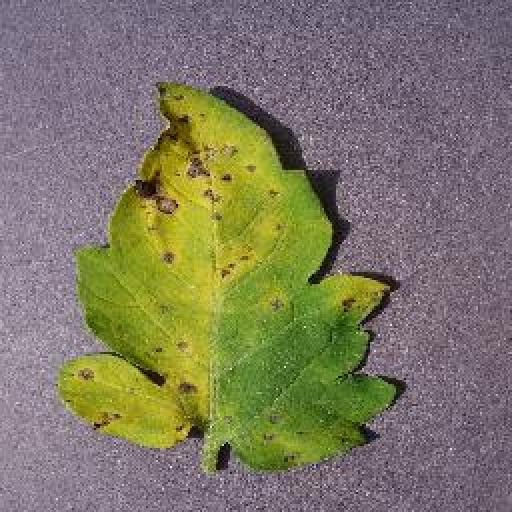Septoria: (57, 78, 400, 474)
